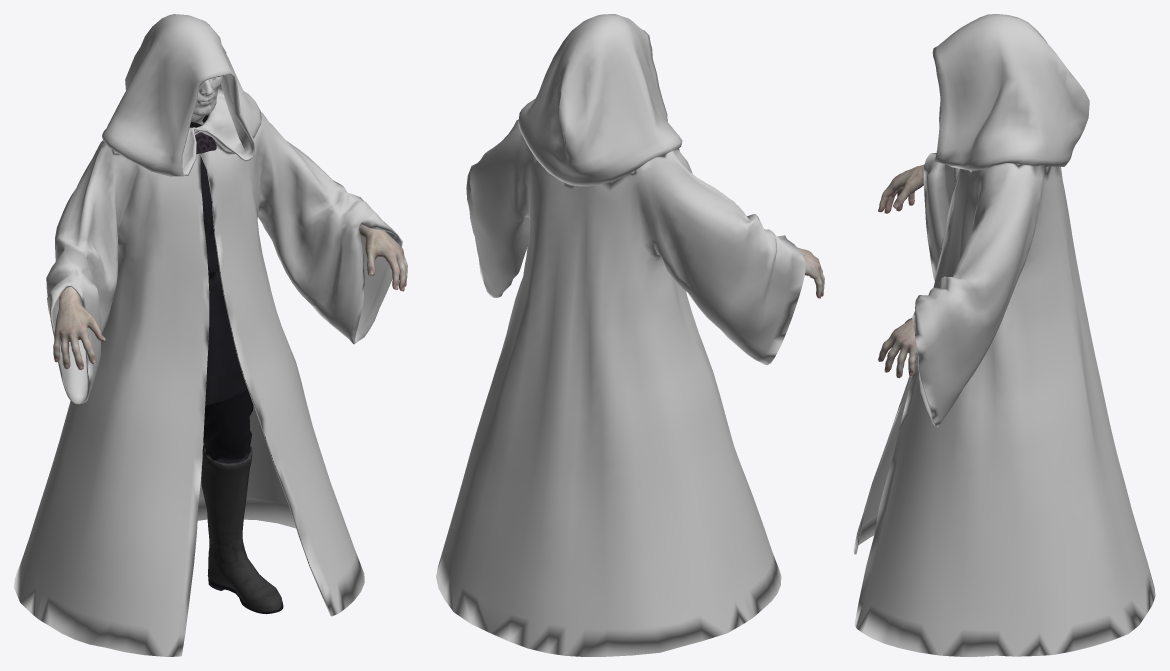
File: Palpatne.fbx
3 renders of one model, left to right at view 1: azimuth 30°, elevation 25°; view 2: azimuth 150°, elevation 25°; view 3: azimuth 270°, elevation 25°, orthographic.
Visible parts, largest first — view 1: geo_robe_sim_Quads6_blinn.002, M_body.001, M_hands, mat_head.003; view 2: geo_robe_sim_Quads6_blinn.002, M_hands; view 3: geo_robe_sim_Quads6_blinn.002, M_hands.
Boxes of the visible parts, x1,y1,x2,y2 form: geo_robe_sim_Quads6_blinn.002: (14,14,402,656); M_body.001: (190,114,283,614); M_hands: (53,224,407,370); mat_head.003: (191,76,222,124); geo_robe_sim_Quads6_blinn.002: (436,14,805,656); M_hands: (797,247,824,298); geo_robe_sim_Quads6_blinn.002: (853,14,1155,656); M_hands: (878,164,924,378).
Size of the model in its own units: 113 by 181 by 82.88.
